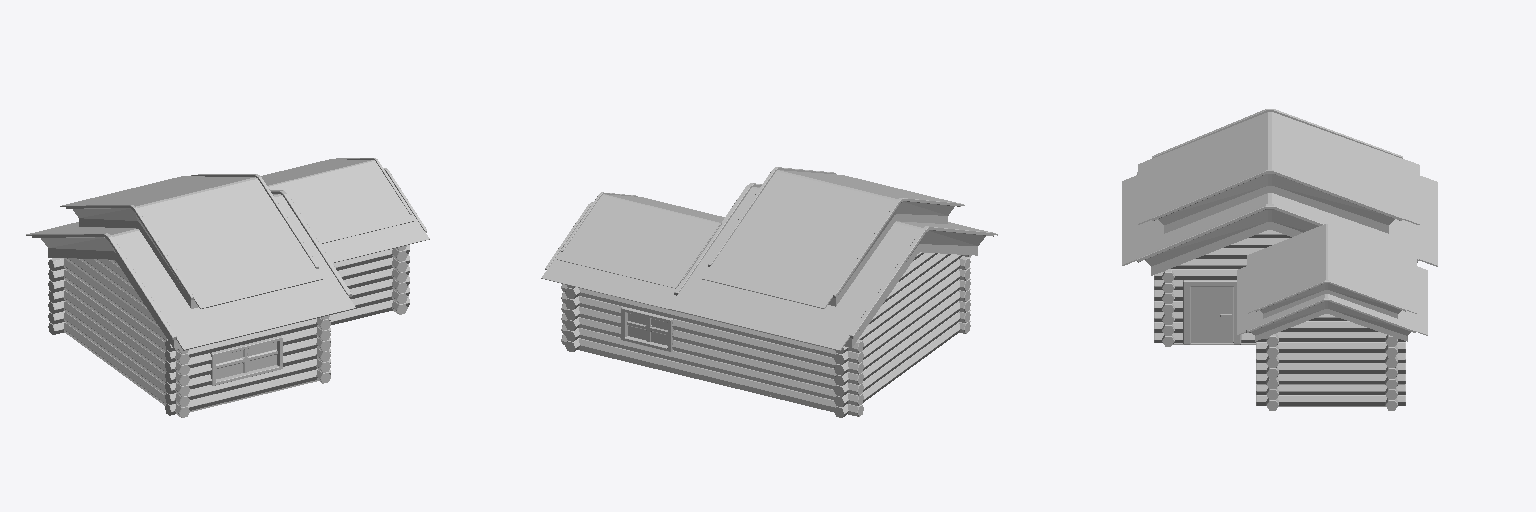
File: Cottage_test01.obj
The picture shows the model from 3 angles: view 1: azimuth 30°, elevation 25°; view 2: azimuth 150°, elevation 25°; view 3: azimuth 270°, elevation 25°; orthographic projection.
Visible parts, largest first — view 1: Cottage_test1; view 2: Cottage_test1; view 3: Cottage_test1.
Part boxes in pixels (x1,y1,x2,y2): Cottage_test1: (26, 158, 429, 417); Cottage_test1: (541, 167, 997, 417); Cottage_test1: (1122, 109, 1437, 410).
Bounding box in the file's own units: 876 × 456 × 775.